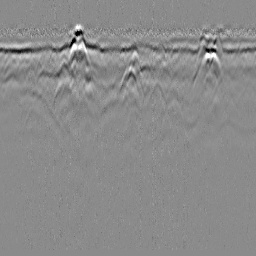cavity: (118, 65, 138, 94)
